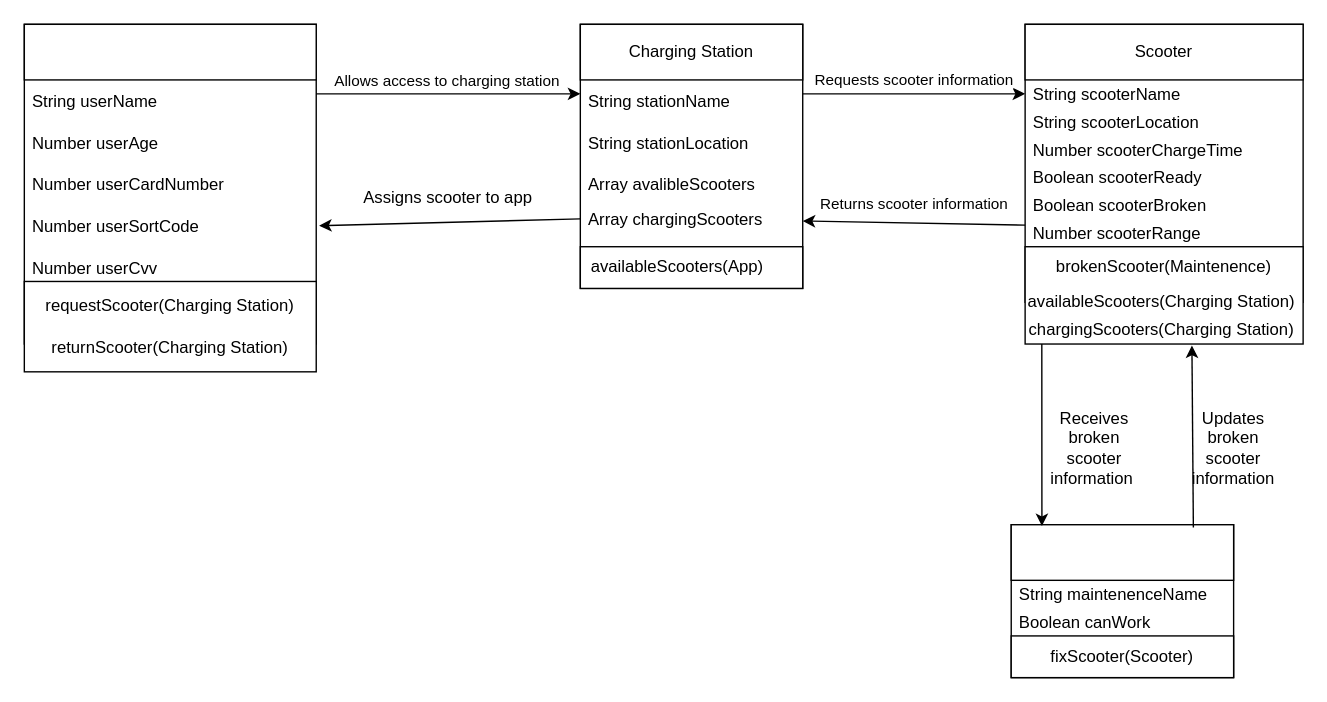
This 1327x702 diagram has some shape labels left out. The box of each missing label's shape, as (x1, y1, x2, y2) in pixels:
App: (23, 23, 316, 80)
Maintenence: (1010, 523, 1234, 580)
